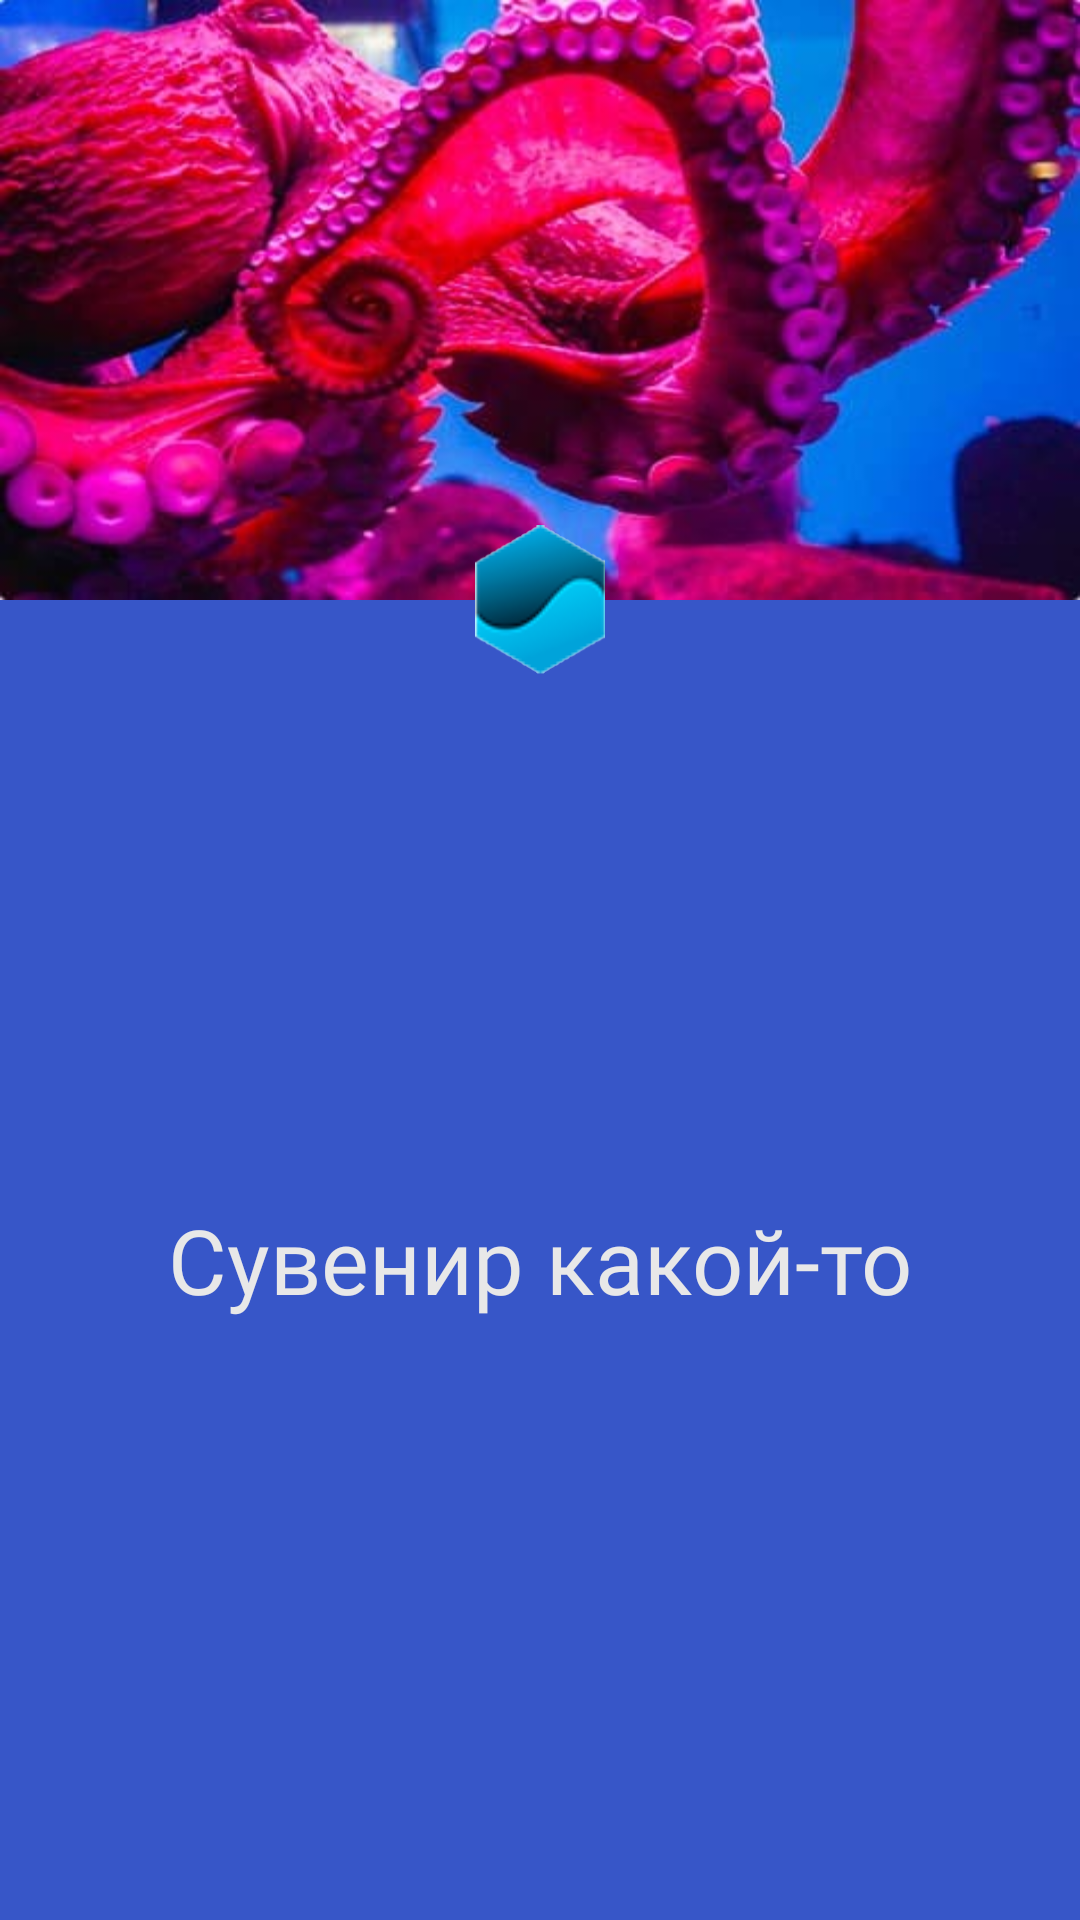

Icons on this 1080px×1920px Android screen, each with the point to tap as point (x, y):
ocean: point (540, 600)
